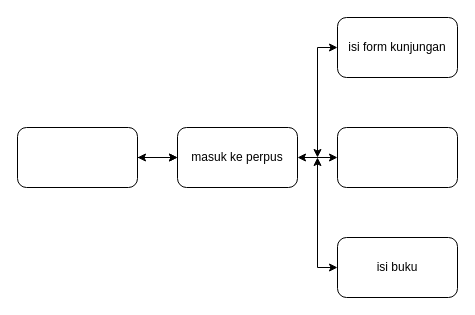
The diagram is 475 pixels wide and 315 high, and some of its shapes have lost their labels. Here are the shapes that lost their labels. From the top down, the centre of each, then its label:
At pixel 77 157: "user".
At pixel 397 157: "lihat kunjungan".
